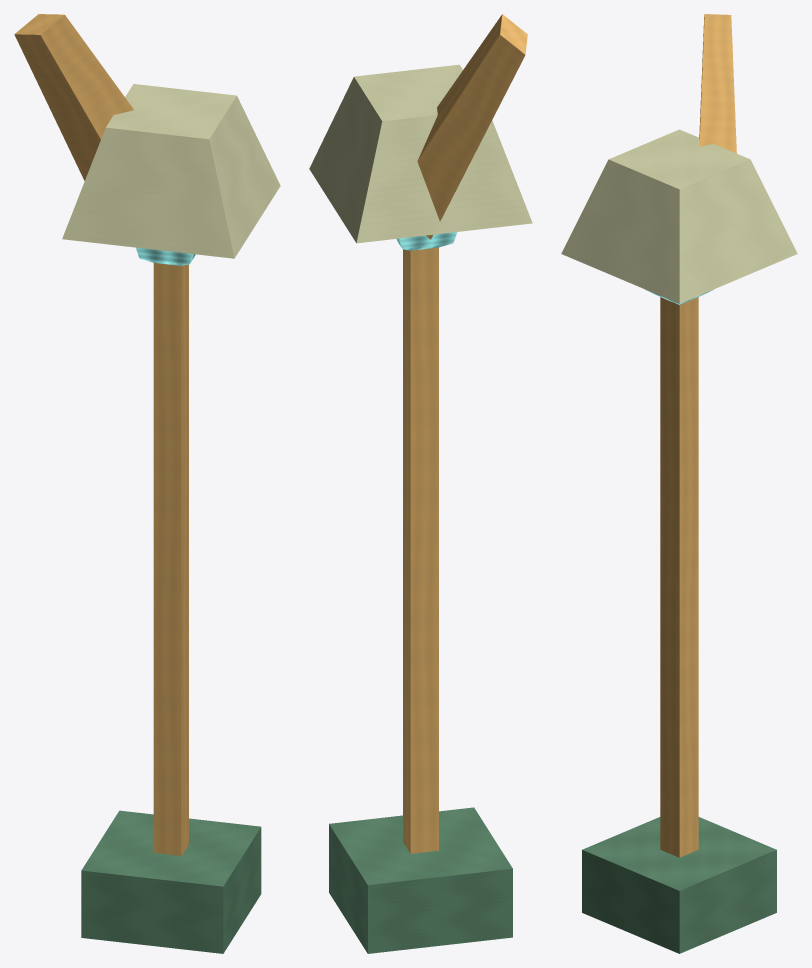
The model's file is atlas100-solarpunk-util01.lod2.glb.
3 views of the same model, side by side, from view 1: azimuth 30°, elevation 25°; view 2: azimuth 150°, elevation 25°; view 3: azimuth 270°, elevation 25° (orthographic). The views are drawn at different scales.
Parts seen in each view (by area): view 1: atlas100-solarpunk-util01:part-002, atlas100-solarpunk-util01:part-001, atlas100-solarpunk-util01:part-000, atlas100-solarpunk-util01:part-006, atlas100-solarpunk-util01:part-003; view 2: atlas100-solarpunk-util01:part-002, atlas100-solarpunk-util01:part-001, atlas100-solarpunk-util01:part-000, atlas100-solarpunk-util01:part-006, atlas100-solarpunk-util01:part-003; view 3: atlas100-solarpunk-util01:part-002, atlas100-solarpunk-util01:part-001, atlas100-solarpunk-util01:part-000, atlas100-solarpunk-util01:part-006.
Boxes of the visible parts, box(x1,y1,x2,y2) form: atlas100-solarpunk-util01:part-002: box(62, 84, 280, 258); atlas100-solarpunk-util01:part-001: box(153, 263, 188, 855); atlas100-solarpunk-util01:part-000: box(81, 810, 261, 953); atlas100-solarpunk-util01:part-006: box(14, 14, 133, 180); atlas100-solarpunk-util01:part-003: box(136, 247, 195, 265); atlas100-solarpunk-util01:part-002: box(309, 64, 532, 243); atlas100-solarpunk-util01:part-001: box(403, 247, 438, 853); atlas100-solarpunk-util01:part-000: box(329, 807, 512, 953); atlas100-solarpunk-util01:part-006: box(417, 14, 527, 239); atlas100-solarpunk-util01:part-003: box(396, 232, 457, 250); atlas100-solarpunk-util01:part-002: box(561, 129, 797, 303); atlas100-solarpunk-util01:part-001: box(660, 297, 698, 857); atlas100-solarpunk-util01:part-000: box(582, 817, 776, 953); atlas100-solarpunk-util01:part-006: box(699, 14, 736, 153).
Bounding box in the file's own units: 0.7433 × 2.72 × 0.68.
4 materials, 4 textured.
